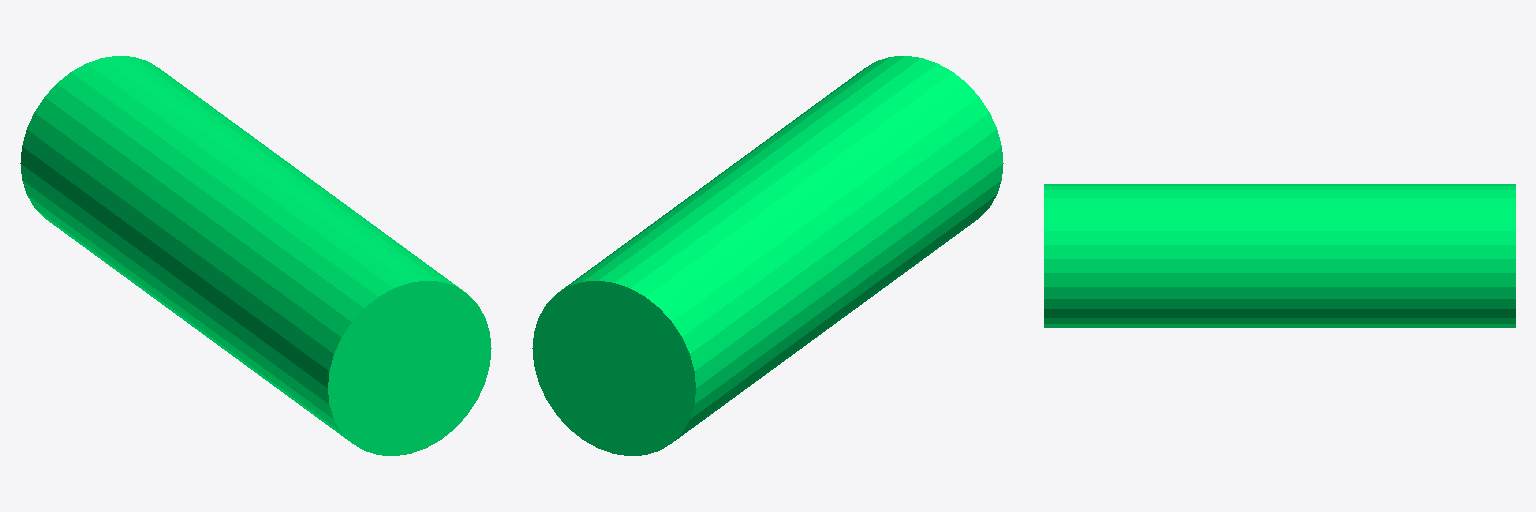
URDF robot description (myfirst):
<?xml version="1.0"?>
 <robot name="myfirst">
   <material name="green">
     <color rgba="0 1 0.498 1"/>
   </material>
   <link name="right_leg">
     <visual>
       <geometry>
         <cylinder length="0.257" radius="0.0395"/>
       </geometry>
       <material name="green"/>
       <origin xyz="0 0 0" rpy="1.5707963 0 0"/>
     </visual>
     <collision>
       <geometry>
         <cylinder length="0.257" radius="0.0395"/>
       </geometry>
       <origin xyz="0 0 0" rpy="1.5707963 0 0"/>
     </collision>
     <inertial>
       <mass value="1"/>
       <inertia ixx="1.0" ixy="0.0" ixz="0.0" iyy="1.0" iyz="0.0" izz="1.0"/>
     </inertial>
   </link>
 </robot>

--- What the picture shows (computed from the rendered views, not written in the file) ---
3 views of the same robot in one strip: view 1: azimuth 30°, elevation 25°; view 2: azimuth 150°, elevation 25°; view 3: azimuth 270°, elevation 25° (orthographic).
Model myfirst with 1 links and 0 joints (none), rooted at right_leg, posed all joints at 0.
Links seen in each view (by area): view 1: right_leg; view 2: right_leg; view 3: right_leg.
Link boxes in pixels (x1,y1,x2,y2): right_leg: [20, 56, 491, 455]; right_leg: [532, 56, 1003, 455]; right_leg: [1044, 184, 1515, 327].
Size in the robot's own frame: 0.079 by 0.257 by 0.079 metres.
Geometry: primitives only (box / cylinder / sphere), no mesh files.